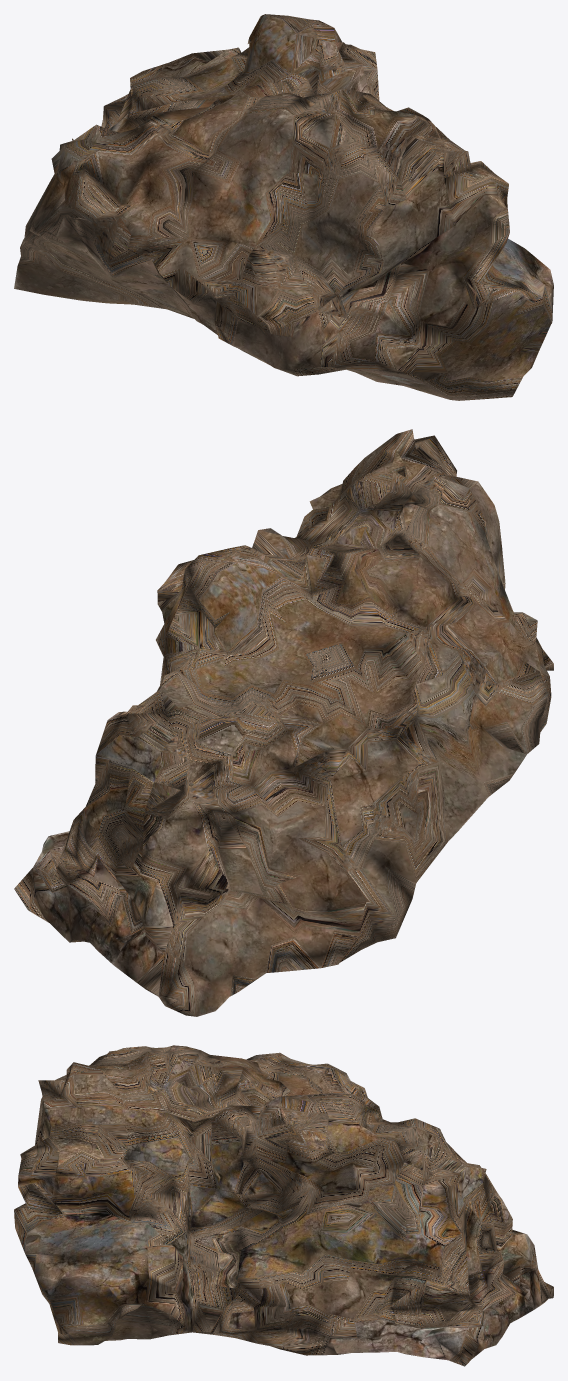
File: boulder.glb
3 views of the same model, one above another, from view 1: azimuth 30°, elevation 25°; view 2: azimuth 150°, elevation 25°; view 3: azimuth 270°, elevation 25° (orthographic). The views are drawn at different scales.
Parts seen in each view (by area): view 1: boulder_01; view 2: boulder_01; view 3: boulder_01.
Part boxes in pixels (x1=…): boulder_01: x1=14, y1=14, x2=553, y2=400; boulder_01: x1=14, y1=429, x2=553, y2=1016; boulder_01: x1=14, y1=1045, x2=553, y2=1366.
Size of the model in its own units: 1.8 by 1.41 by 2.58.
1 material, 1 textured.
